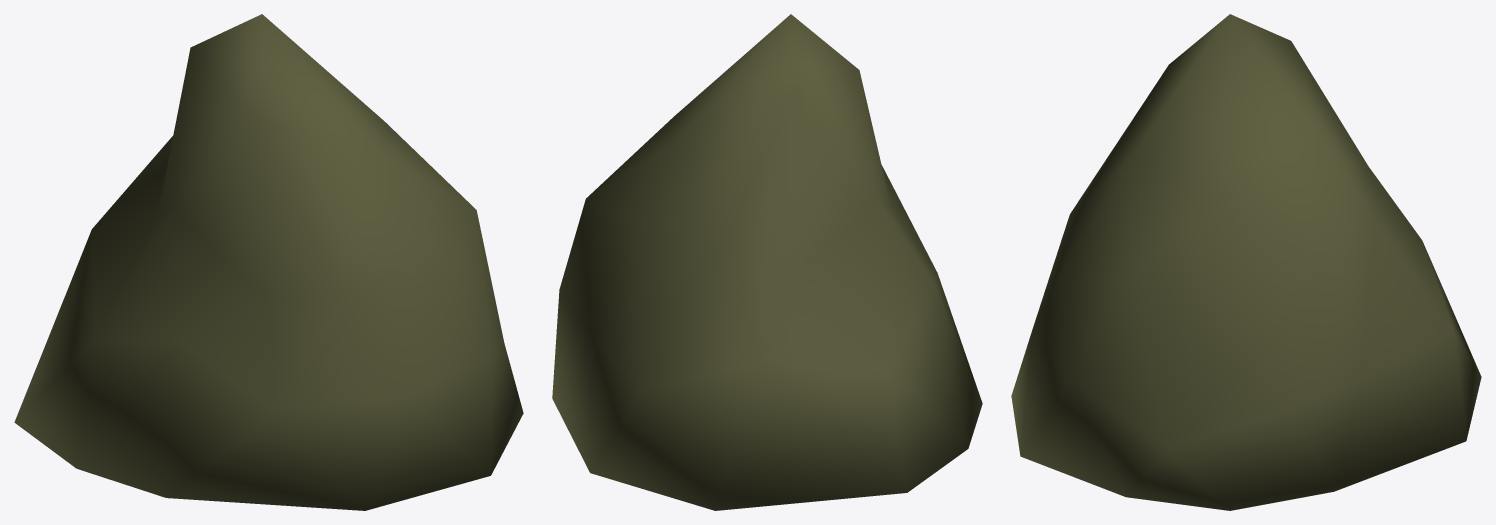
File: Rock.FBX
3 views of the same model, side by side, from view 1: azimuth 30°, elevation 25°; view 2: azimuth 150°, elevation 25°; view 3: azimuth 270°, elevation 25° (orthographic). The views are drawn at different scales.
Parts seen in each view (by area): view 1: Rocks; view 2: Rocks; view 3: Rocks.
Boxes of the visible parts, x1,y1,x2,y2 form: Rocks: (14, 14, 523, 510); Rocks: (552, 14, 982, 510); Rocks: (1011, 14, 1481, 510).
Size of the model in its own units: 17.05 by 15.86 by 17.39.
